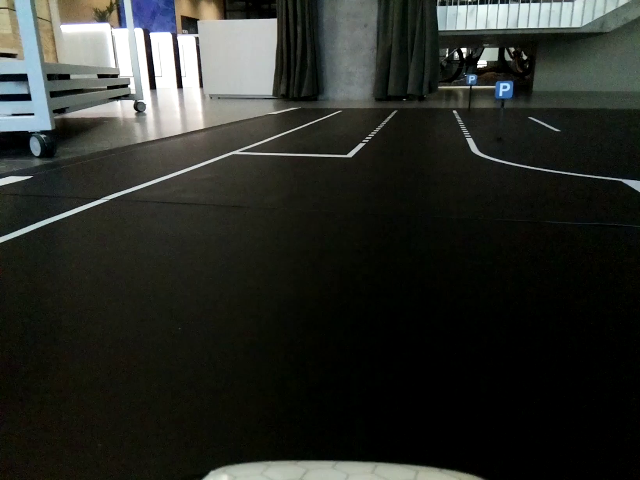park: (495, 81, 513, 99), (467, 74, 477, 85)
